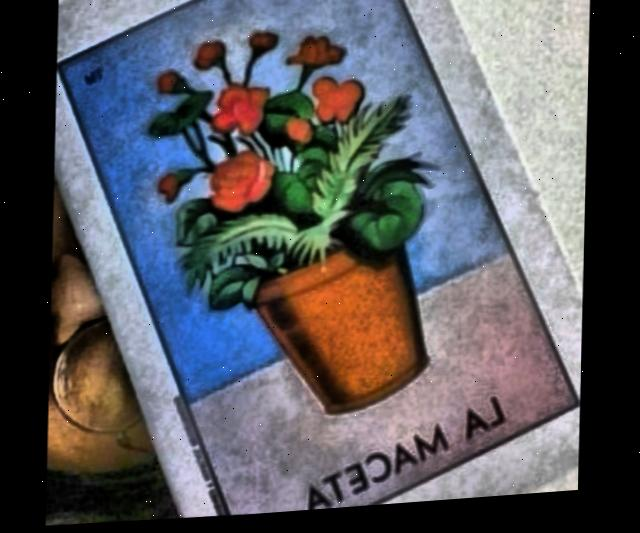La Maceta: (58, 0, 580, 518)
